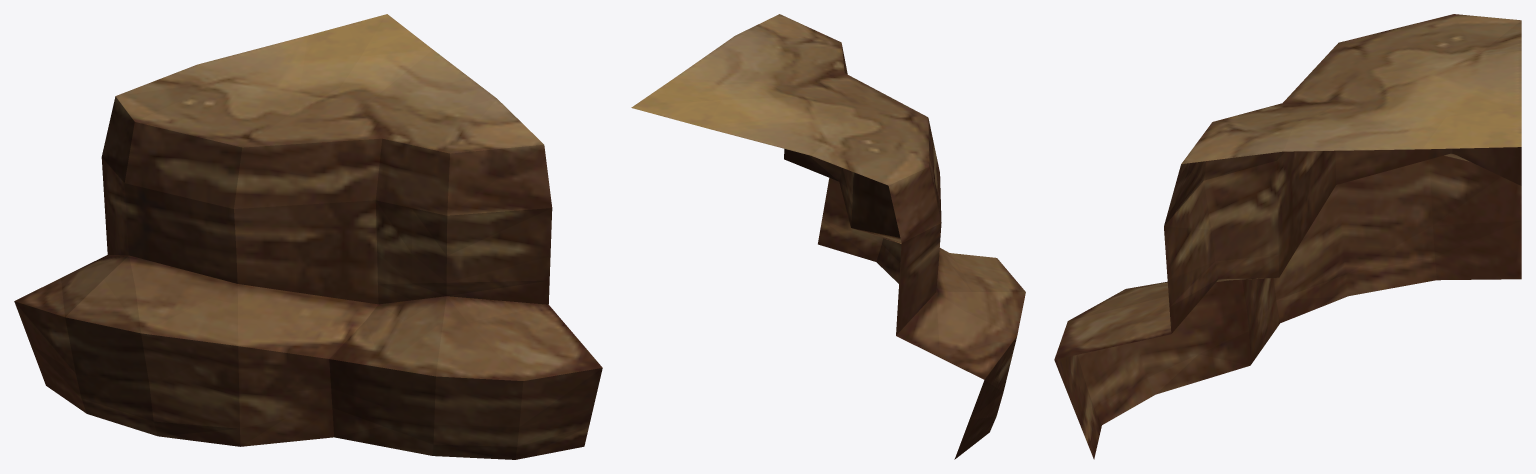
File: nashgar_trim_convex2_rock01_01.FBX
3 views of the same model, side by side, from view 1: azimuth 30°, elevation 25°; view 2: azimuth 150°, elevation 25°; view 3: azimuth 270°, elevation 25° (orthographic). The views are drawn at different scales.
Visible parts, largest first — view 1: nashgar_trim_convex2_rock01_01; view 2: nashgar_trim_convex2_rock01_01; view 3: nashgar_trim_convex2_rock01_01.
Part boxes in pixels (left/top/right/bottom): nashgar_trim_convex2_rock01_01: left=14, top=14, right=602, bottom=459; nashgar_trim_convex2_rock01_01: left=631, top=14, right=1025, bottom=459; nashgar_trim_convex2_rock01_01: left=1054, top=14, right=1521, bottom=459.
Size of the model in its own units: 2.71 by 2 by 2.71.
